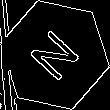N_SE: (24, 23, 86, 87)
